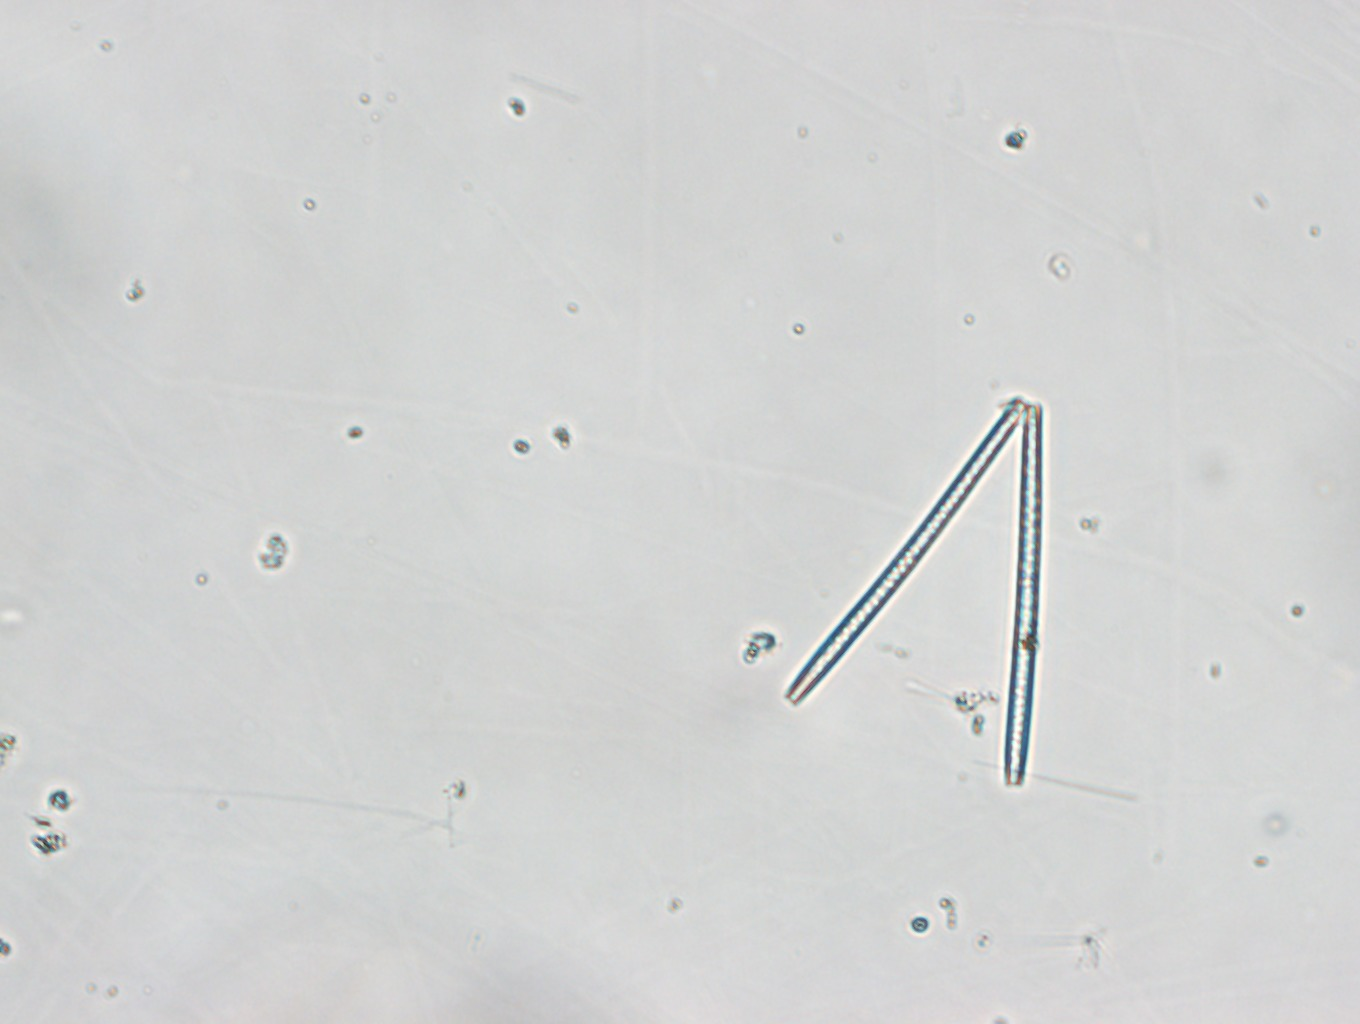thalassionema frauenfeldii: (784, 394, 1044, 785)
